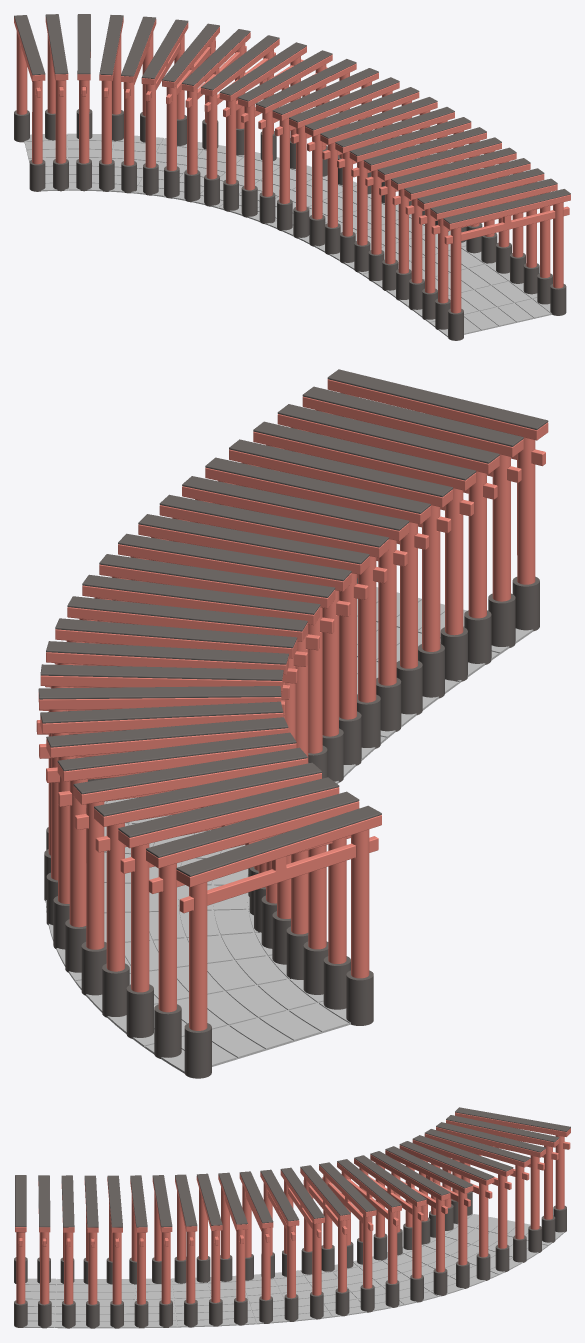
3 views of the same model, one above another, from view 1: azimuth 30°, elevation 25°; view 2: azimuth 150°, elevation 25°; view 3: azimuth 270°, elevation 25° (orthographic). The views are drawn at different scales.
Parts seen in each view (by area): view 1: 019_st_Torii2; view 2: 019_st_Torii2; view 3: 019_st_Torii2.
Boxes of the visible parts, x1=… form: 019_st_Torii2: x1=14, y1=14, x2=570, y2=340; 019_st_Torii2: x1=36, y1=369, x2=548, y2=1078; 019_st_Torii2: x1=14, y1=1107, x2=570, y2=1328.
Bounding box in the file's own units: 0.4966 × 0.1991 × 0.9749.
